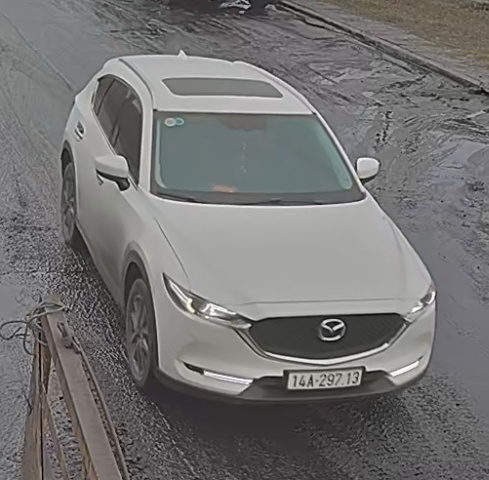vehicle plate: (284, 367, 365, 389)
